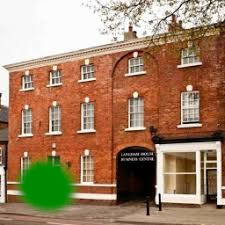focus: (16, 156, 75, 217)
